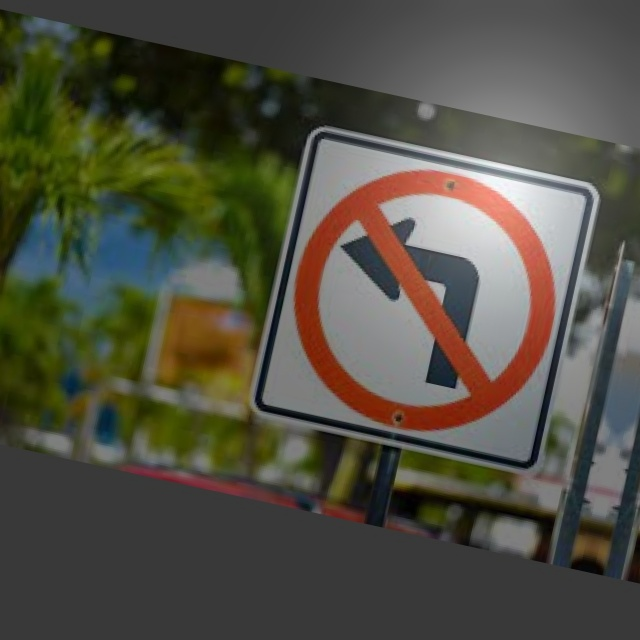Left_Turn_Prohibited: (267, 143, 586, 464)
